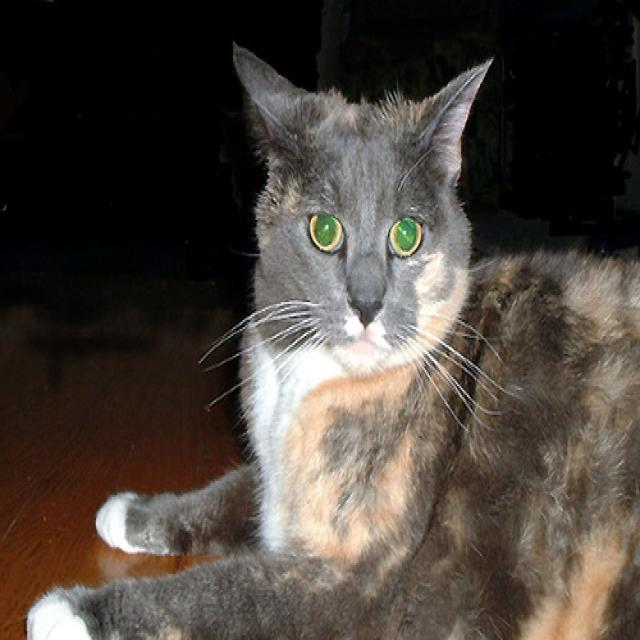cat: (25, 41, 640, 640)
